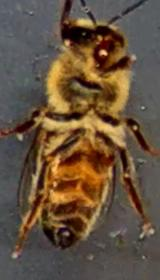varroa_mite: (90, 136, 124, 176)
